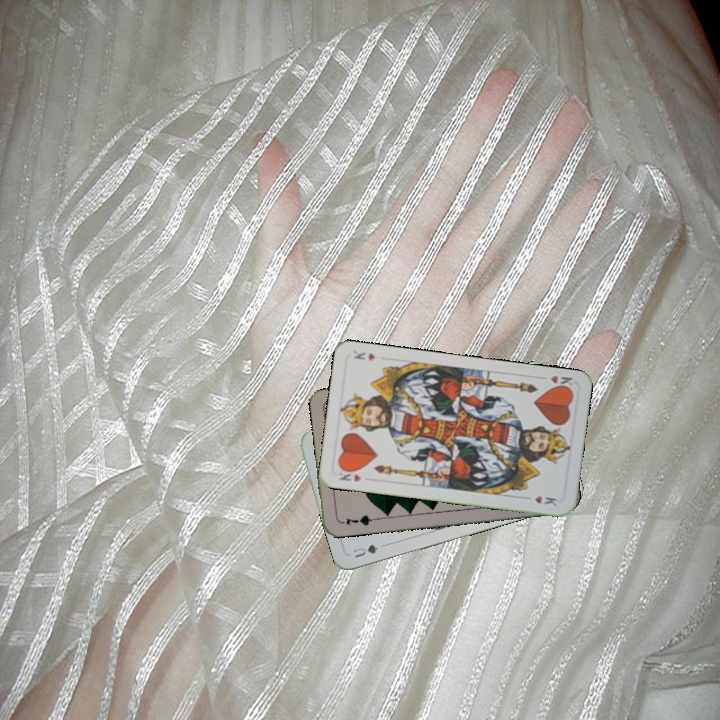G7: (336, 511, 377, 528)
GU: (348, 540, 381, 561)
HK: (536, 371, 576, 392), (335, 464, 364, 484)
